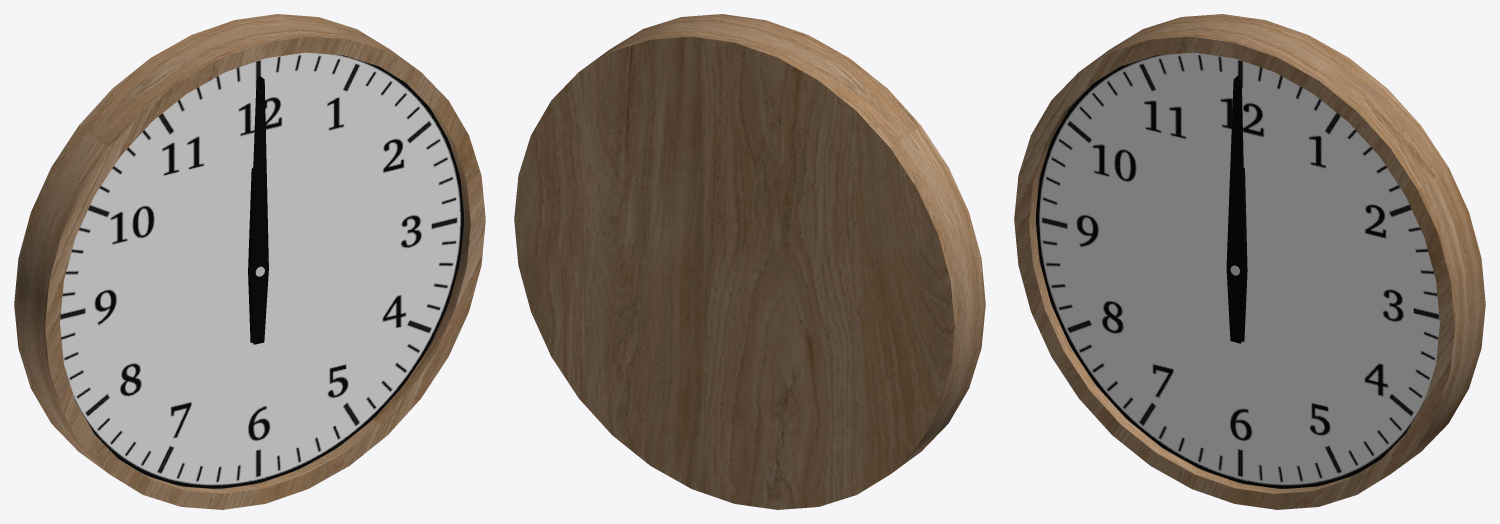
Rendered from Clock.fbx.
3 views of the same model, side by side, from view 1: azimuth 30°, elevation 25°; view 2: azimuth 150°, elevation 25°; view 3: azimuth 330°, elevation 25° (orthographic).
Visible parts, largest first — view 1: Clock, BigHand; view 2: Clock; view 3: Clock, BigHand.
Part boxes in pixels (x1,y1,x2,y2): Clock: (14,14,485,509); BigHand: (249,76,268,344); Clock: (514,14,985,509); Clock: (1014,14,1485,509); BigHand: (1226,75,1245,343).
Bounding box in the file's own units: 372 × 372 × 45.14.
